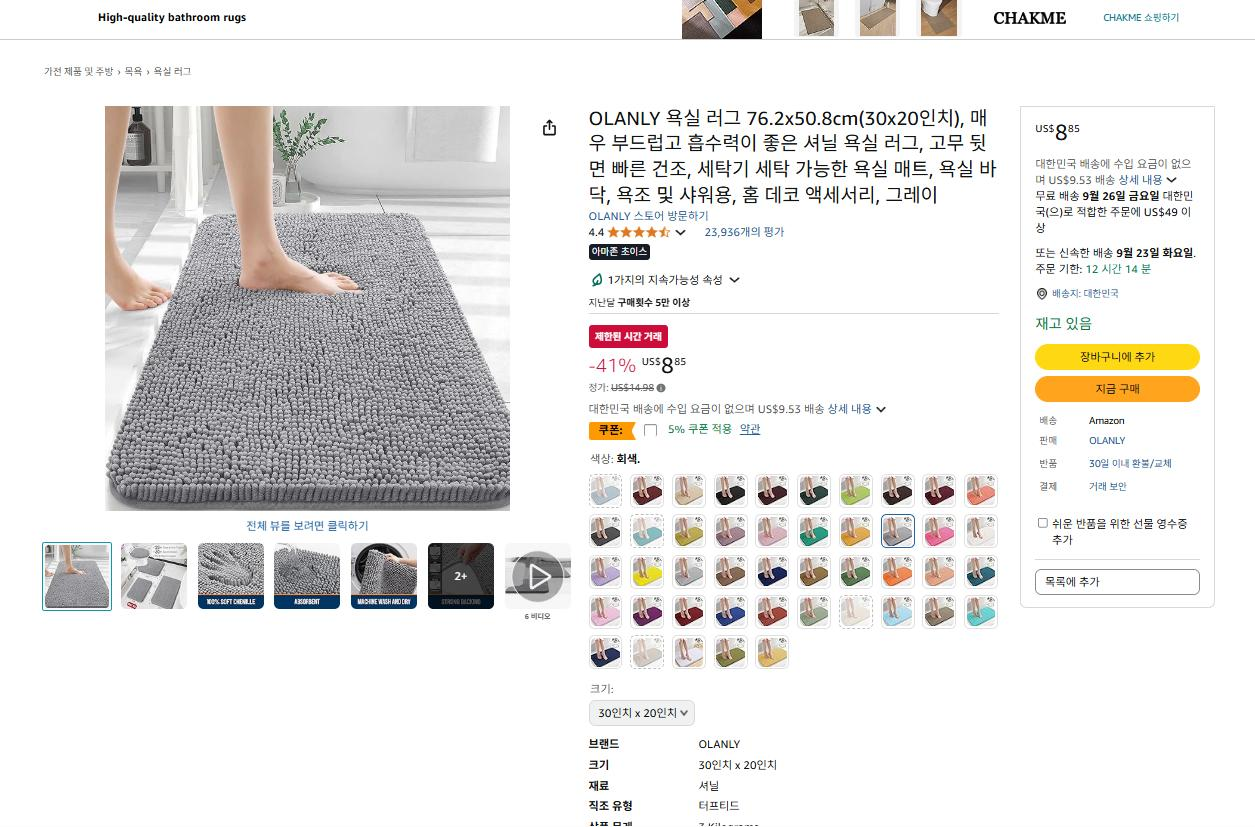button: (1030, 374, 1200, 406), (1036, 339, 1203, 371), (1030, 568, 1198, 595), (591, 264, 746, 288), (591, 701, 703, 729), (956, 515, 1008, 558), (790, 470, 834, 516), (696, 224, 795, 243), (790, 598, 835, 636), (831, 517, 873, 555), (921, 469, 963, 506), (758, 508, 791, 555), (634, 546, 671, 585), (665, 594, 706, 629), (745, 591, 788, 624), (754, 630, 791, 668), (882, 466, 918, 505), (709, 469, 744, 509), (624, 474, 669, 505), (591, 514, 625, 555), (668, 475, 706, 511), (920, 554, 958, 590), (588, 596, 629, 629), (586, 475, 629, 506), (965, 595, 1001, 632), (588, 636, 621, 676), (879, 596, 918, 629), (838, 560, 875, 594), (629, 518, 666, 551), (878, 551, 916, 583), (835, 474, 874, 505), (844, 596, 880, 629), (752, 473, 790, 504), (713, 553, 744, 591), (675, 515, 709, 549), (966, 474, 999, 509), (794, 555, 831, 586), (672, 639, 700, 679), (922, 514, 958, 545), (715, 518, 751, 549), (758, 554, 789, 590), (876, 515, 914, 544), (921, 598, 959, 626), (636, 592, 664, 630), (716, 632, 744, 670), (673, 555, 706, 586), (713, 594, 741, 629), (633, 635, 661, 670), (591, 555, 621, 587), (968, 556, 1001, 584), (798, 518, 831, 544)
checkbox: (5, 0, 1255, 39), (1031, 515, 1205, 549), (578, 224, 690, 243)
